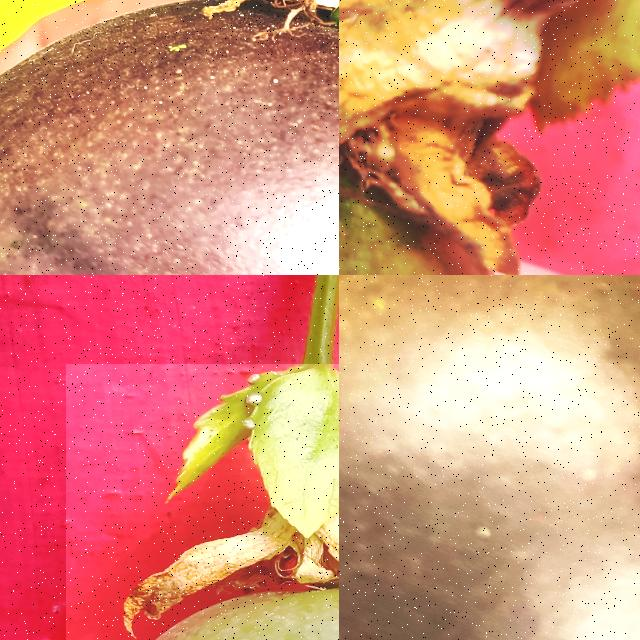Estado-2: (127, 364, 339, 640)
Estado-5: (0, 0, 339, 275)
Estado-6: (339, 275, 640, 640)
